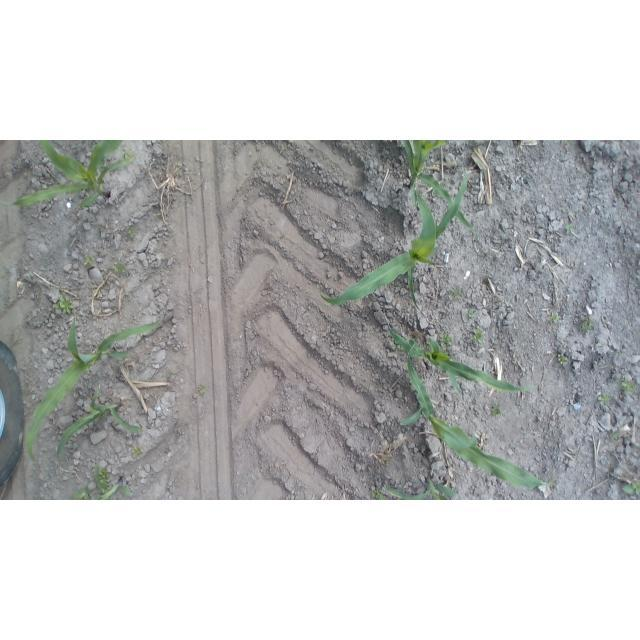Maize: (401, 343, 555, 490), (318, 164, 467, 313), (26, 315, 161, 462), (386, 316, 538, 395), (0, 141, 134, 208), (398, 141, 478, 236), (55, 386, 142, 463), (80, 462, 130, 500), (386, 476, 458, 500)
Weeds: (52, 292, 74, 315), (95, 467, 109, 494), (72, 485, 93, 500), (621, 481, 640, 496), (579, 315, 594, 333), (371, 488, 389, 501), (620, 379, 635, 394), (449, 287, 464, 301), (470, 329, 485, 343), (440, 333, 454, 347), (111, 263, 127, 274), (121, 148, 135, 160), (546, 312, 560, 324), (598, 393, 611, 405), (556, 354, 568, 365), (491, 404, 501, 417), (83, 255, 94, 265), (126, 226, 135, 238), (395, 341, 405, 351), (566, 223, 575, 234), (131, 446, 141, 455), (467, 310, 478, 318), (198, 385, 207, 394), (565, 140, 574, 148), (611, 431, 619, 439), (386, 461, 391, 466)
